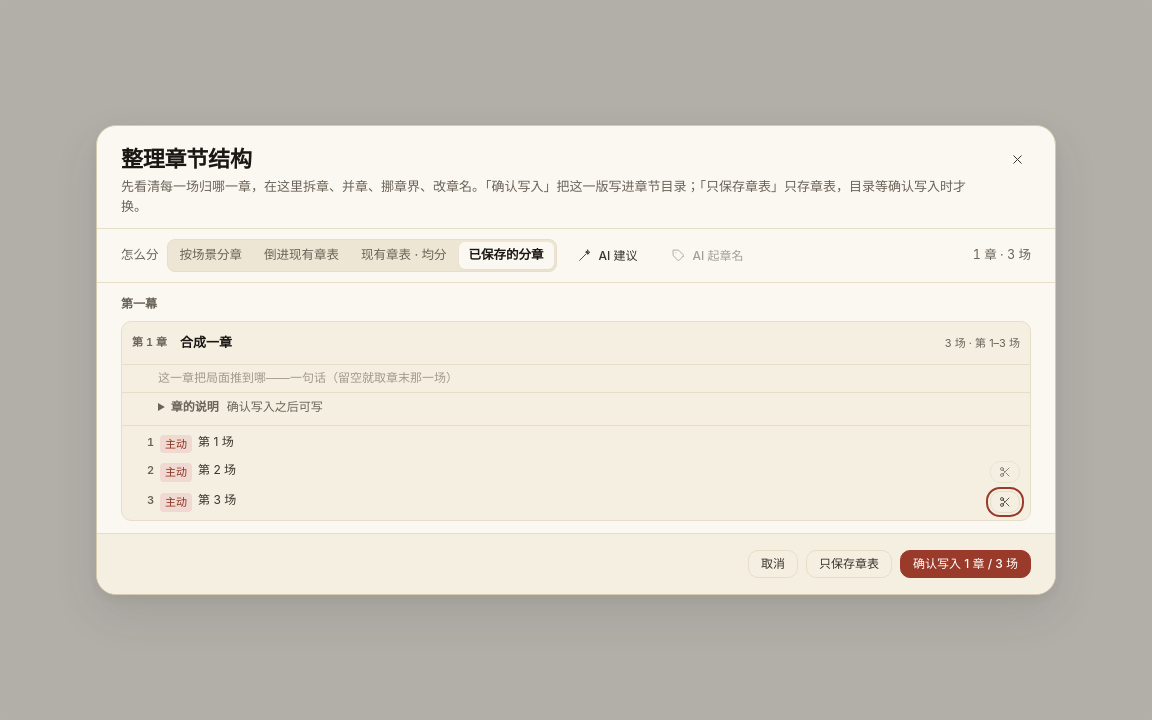
Test: 分章面板 · 物化闸门衔接 › 拆章之后按下的剪刀随场消失：焦点不掉到 body，落在新章的章名框上
The width and height of the screenshot is (1152, 720).
// 浏览器里点击的更新在事件末尾同步提交，然后才轮到定时器；act 要等回调结束才提交，所以分两步
Click the button with test id "chapter-plan-split-0-2" at (1005, 502), box x1=990 y1=491 x2=1020 y2=513
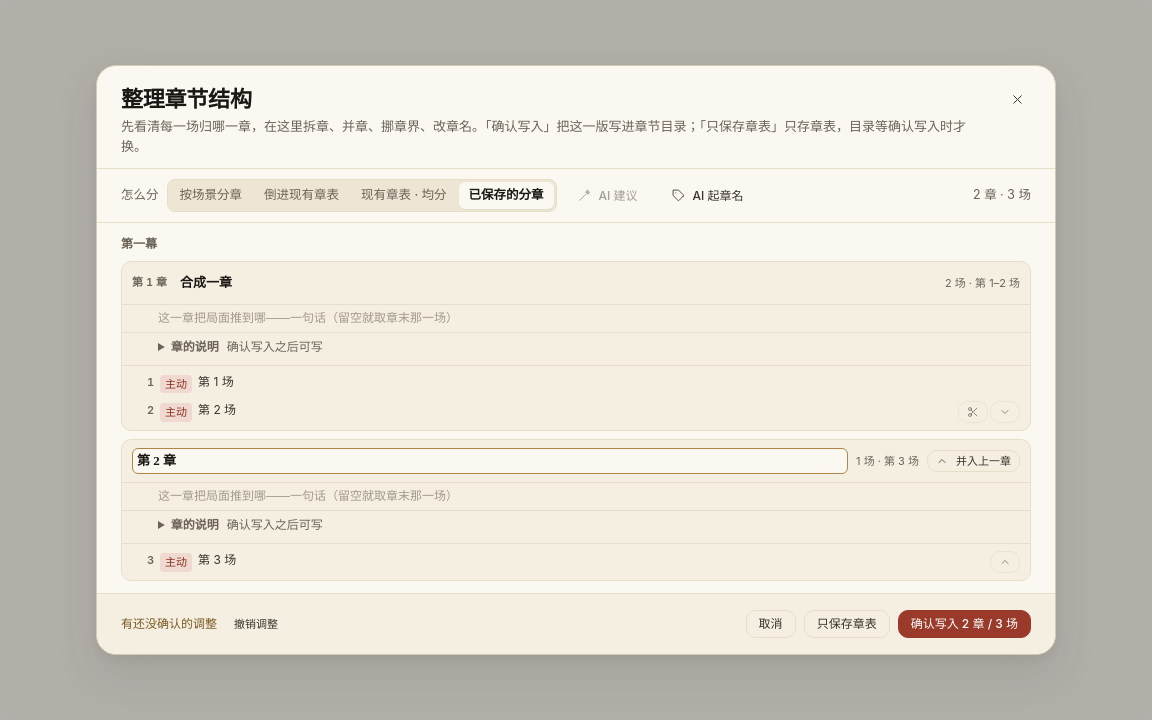
Result: the button with test id "chapter-plan-split-0-2" is gone
